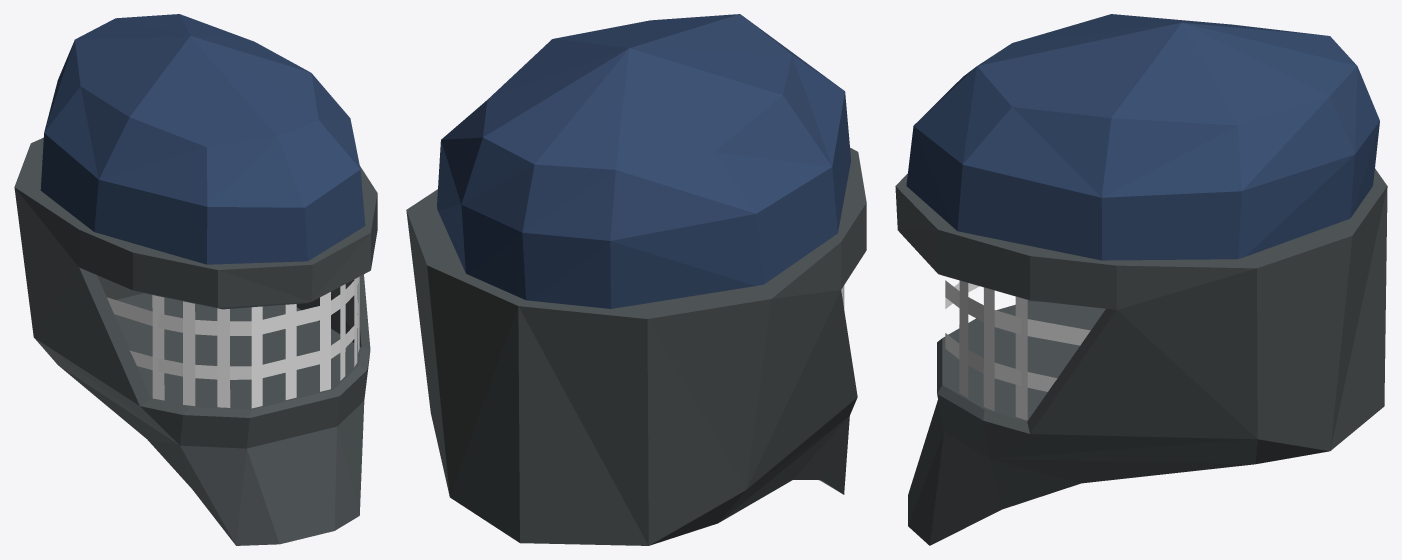
The model's file is Ice_hockey_helmet_blue.fbx.
3 renders of one model, left to right at view 1: azimuth 30°, elevation 25°; view 2: azimuth 150°, elevation 25°; view 3: azimuth 270°, elevation 25°, orthographic. The views are drawn at different scales.
Visible parts, largest first — view 1: Ice_hockey_helmet_blue; view 2: Ice_hockey_helmet_blue; view 3: Ice_hockey_helmet_blue.
Boxes of the visible parts, bbox=[...] form: Ice_hockey_helmet_blue: bbox=[14, 14, 377, 545]; Ice_hockey_helmet_blue: bbox=[406, 14, 866, 545]; Ice_hockey_helmet_blue: bbox=[895, 14, 1387, 545].
Bounding box in the file's own units: 25.86 × 35.7 × 32.62.
